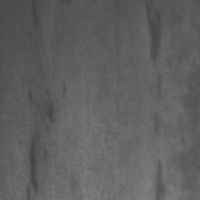inclusion: (25, 81, 68, 199), (144, 1, 168, 69), (151, 72, 169, 135), (151, 151, 170, 200), (26, 1, 41, 32)
